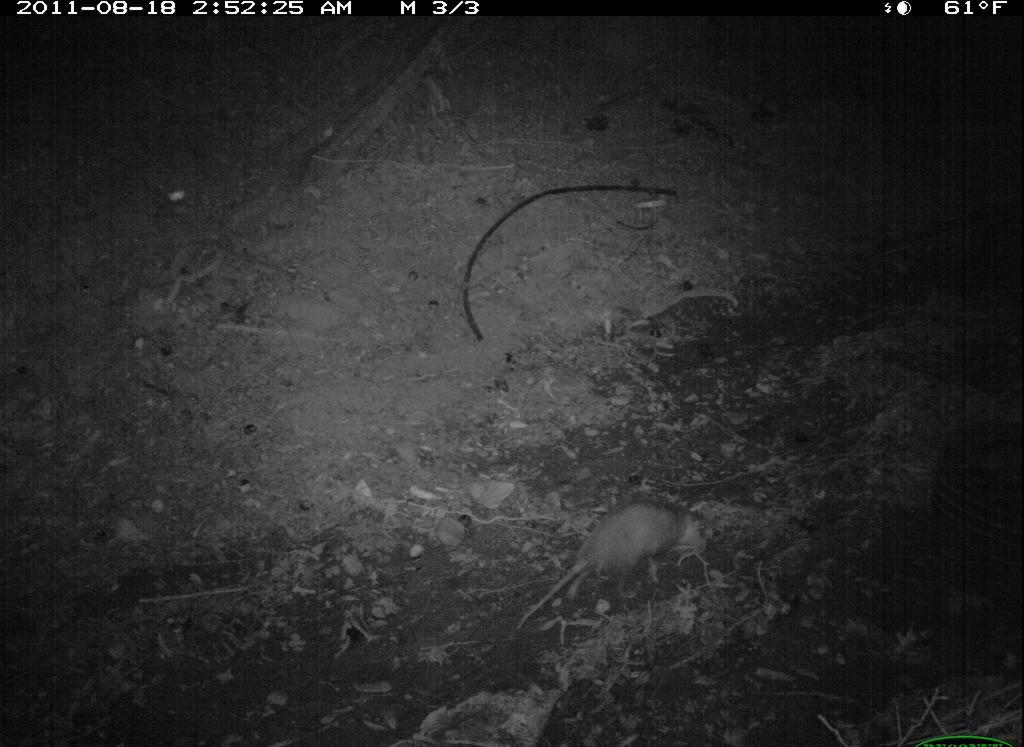opossum: (509, 492, 747, 651)
